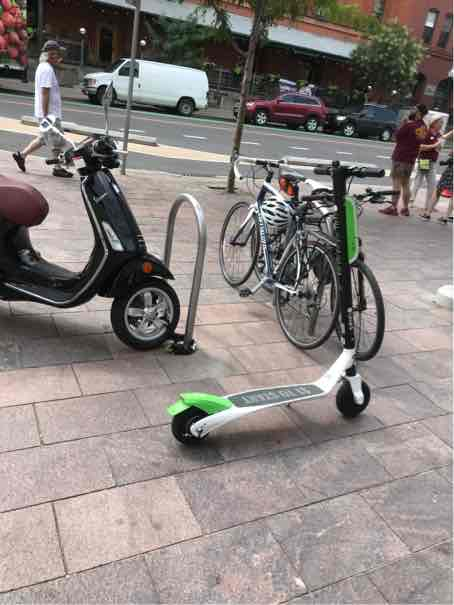scooter: (163, 156, 405, 459)
